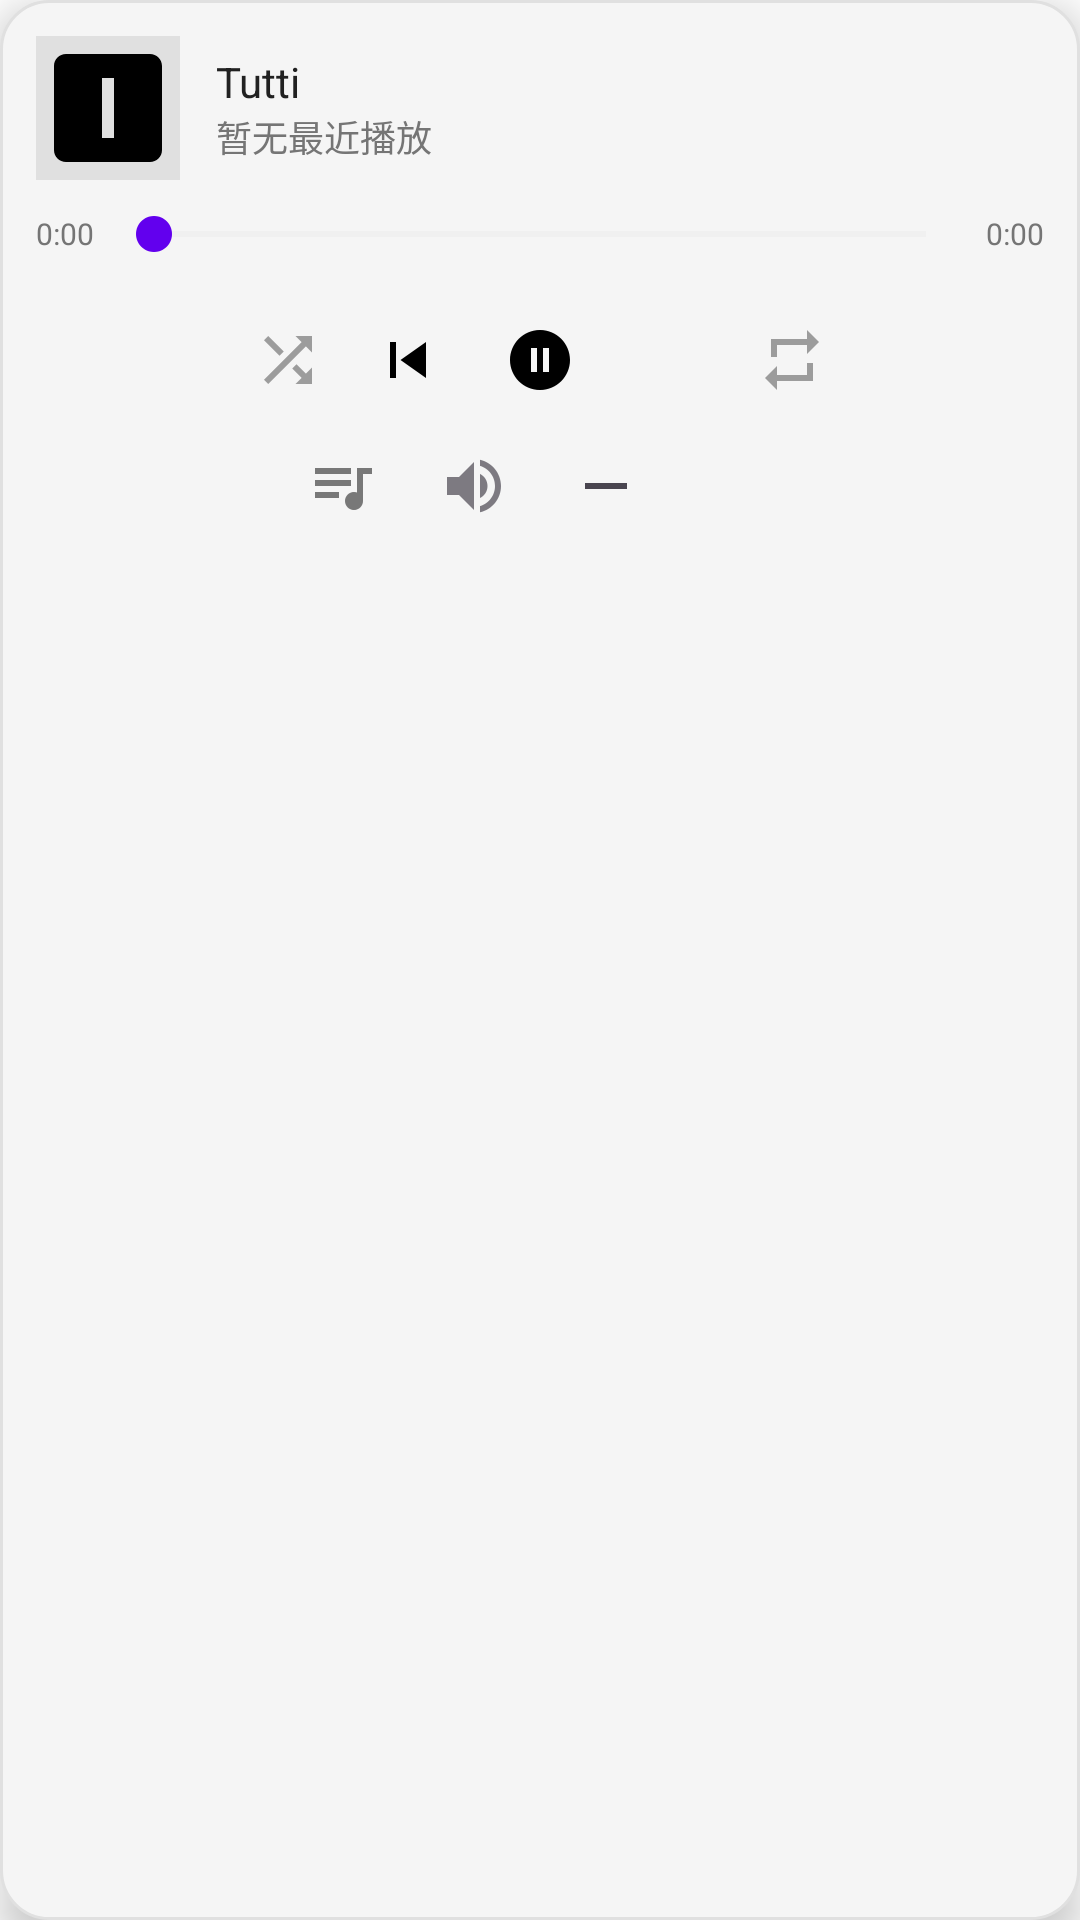

Point at icon controls on the screen. Image size 1080x1920, points as (x=x, y=y).
Previous: (x=408, y=360)
循环模式: (x=792, y=360)
播放/暂停: (x=540, y=360)
播放列表: (x=343, y=489)
随机播放: (x=288, y=360)
音量: (x=474, y=486)
